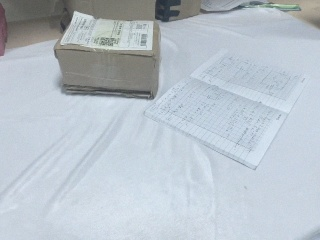box: (53, 7, 159, 99), (154, 1, 203, 22)
